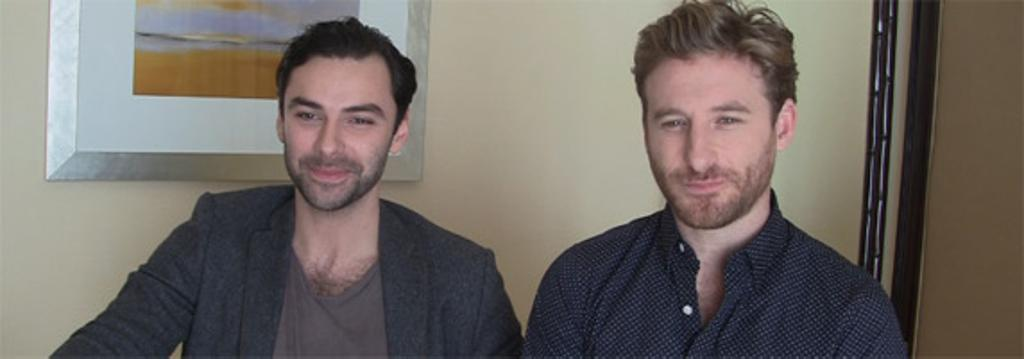face: (654, 46, 770, 218), (280, 54, 392, 208)
